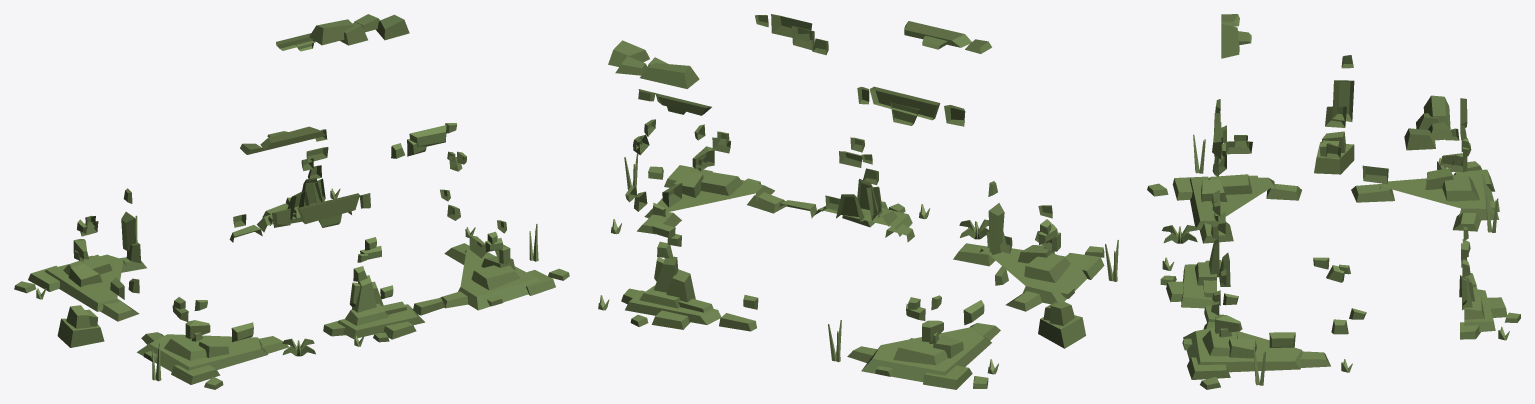
The model's file is SA_Bld_HospitalBuildingSmall_Growth_01.gltf.
The picture shows the model from 3 angles, left to right: view 1: azimuth 30°, elevation 25°; view 2: azimuth 150°, elevation 25°; view 3: azimuth 270°, elevation 25°; orthographic projection. The views are drawn at different scales.
Visible parts, largest first — view 1: SA_Bld_HospitalBuildingSmall_Growth_01; view 2: SA_Bld_HospitalBuildingSmall_Growth_01; view 3: SA_Bld_HospitalBuildingSmall_Growth_01.
Boxes of the visible parts, x1=… form: SA_Bld_HospitalBuildingSmall_Growth_01: x1=14, y1=14, x2=569, y2=389; SA_Bld_HospitalBuildingSmall_Growth_01: x1=598, y1=14, x2=1118, y2=389; SA_Bld_HospitalBuildingSmall_Growth_01: x1=1147, y1=14, x2=1520, y2=389.
Size of the model in its own units: 32.74 by 14.56 by 22.15.
1 material, 1 textured.
